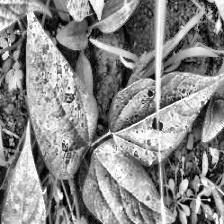ALS: (19, 5, 97, 177), (105, 65, 224, 164), (83, 142, 175, 224)
